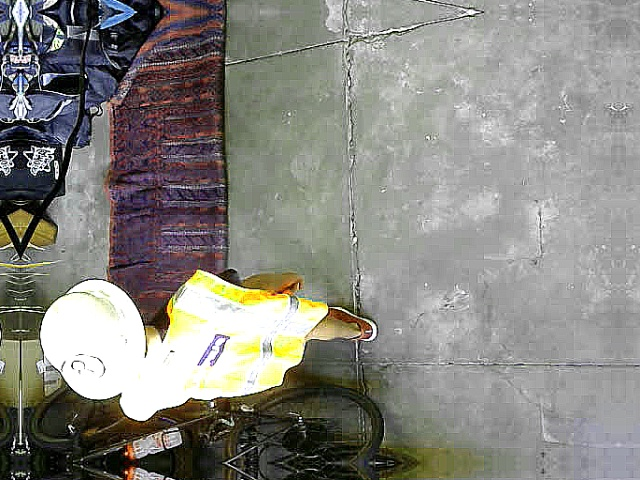eight: (62, 352, 106, 384)
